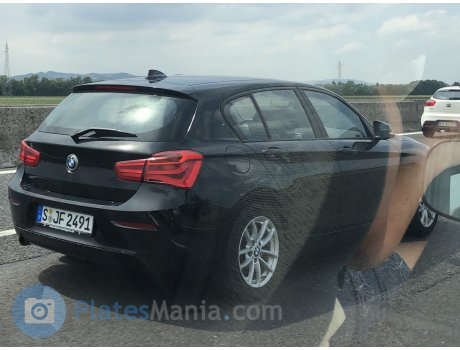License Plates: (39, 202, 95, 232)
